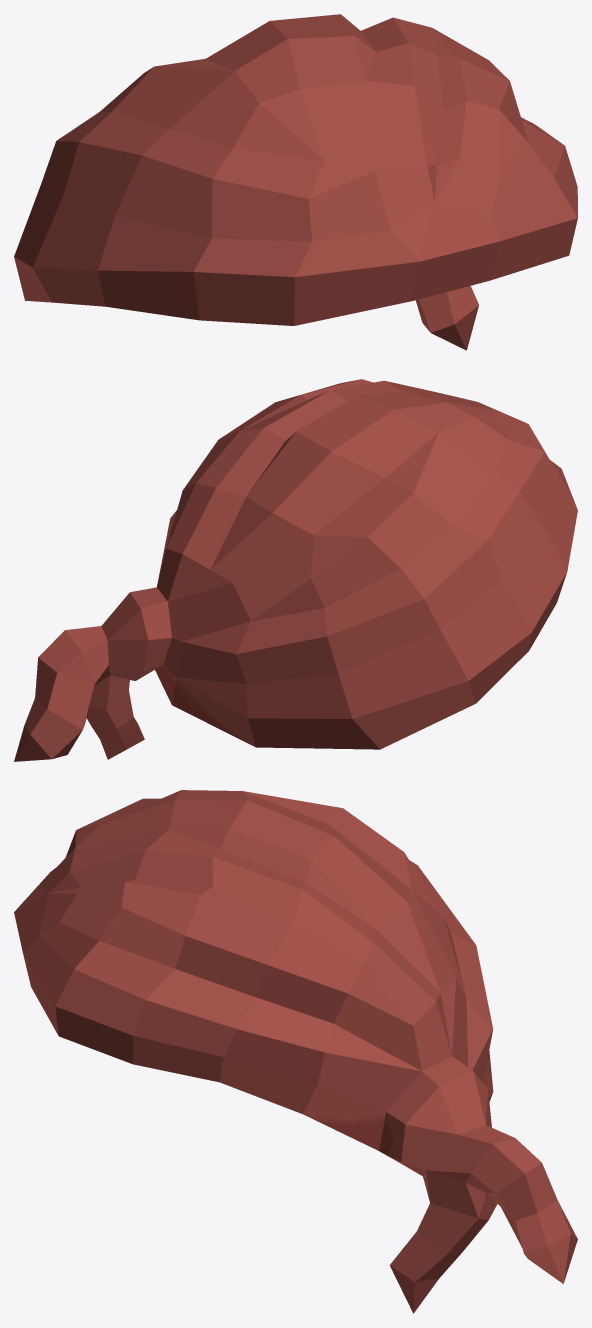
Rendered from SM_Chr_Attach_Bandana_04.fbx.
3 views of the same model, one above another, from view 1: azimuth 30°, elevation 25°; view 2: azimuth 150°, elevation 25°; view 3: azimuth 270°, elevation 25° (orthographic). The views are drawn at different scales.
Parts seen in each view (by area): view 1: SM_Chr_Attach_Bandana_04; view 2: SM_Chr_Attach_Bandana_04; view 3: SM_Chr_Attach_Bandana_04.
Boxes of the visible parts, <box> form: SM_Chr_Attach_Bandana_04: <box>14,14,577,350</box>; SM_Chr_Attach_Bandana_04: <box>14,379,577,761</box>; SM_Chr_Attach_Bandana_04: <box>14,790,577,1313</box>.
Size of the model in its own units: 34.92 by 28.29 by 36.55.
